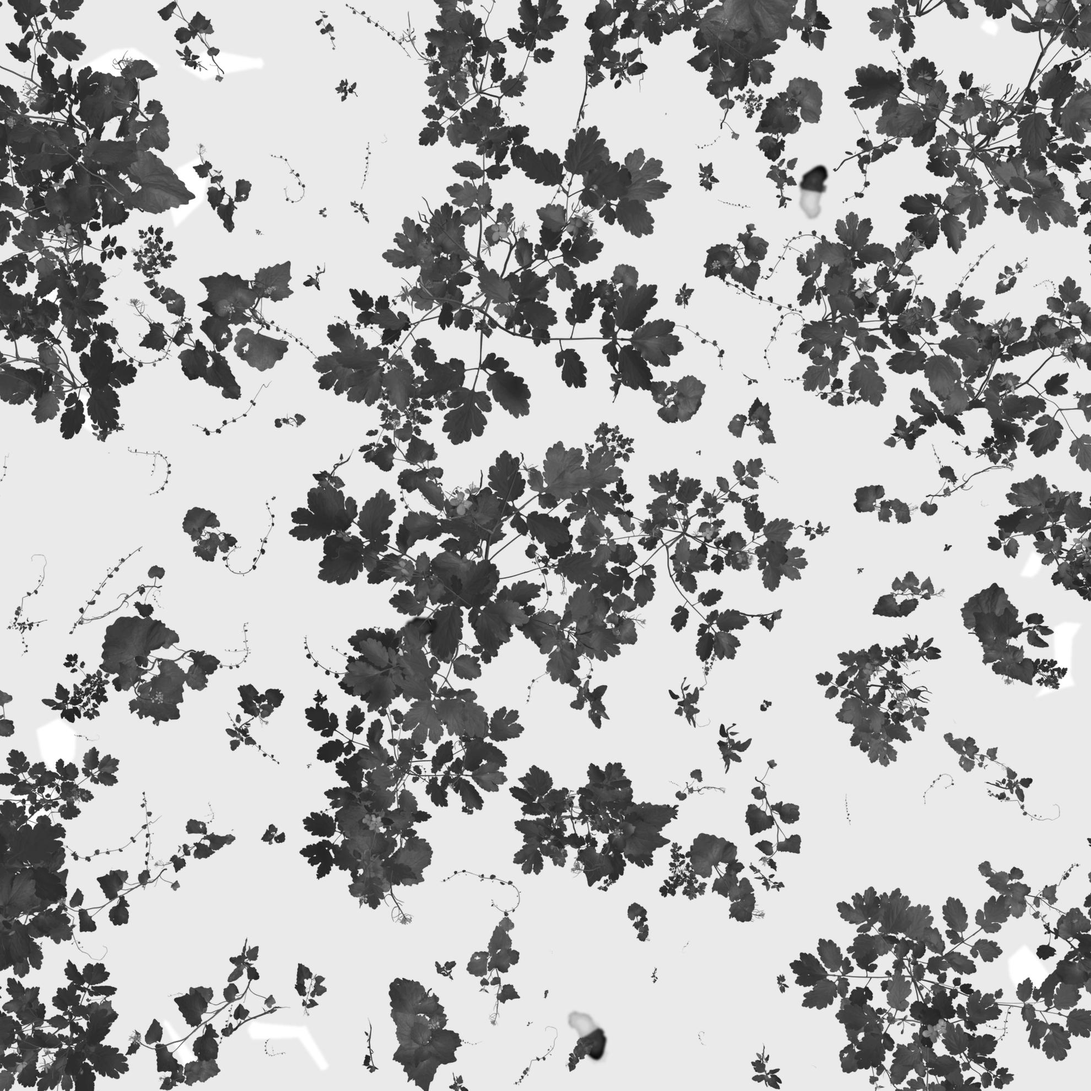landmine: (561, 1008, 609, 1066), (791, 160, 834, 222)
